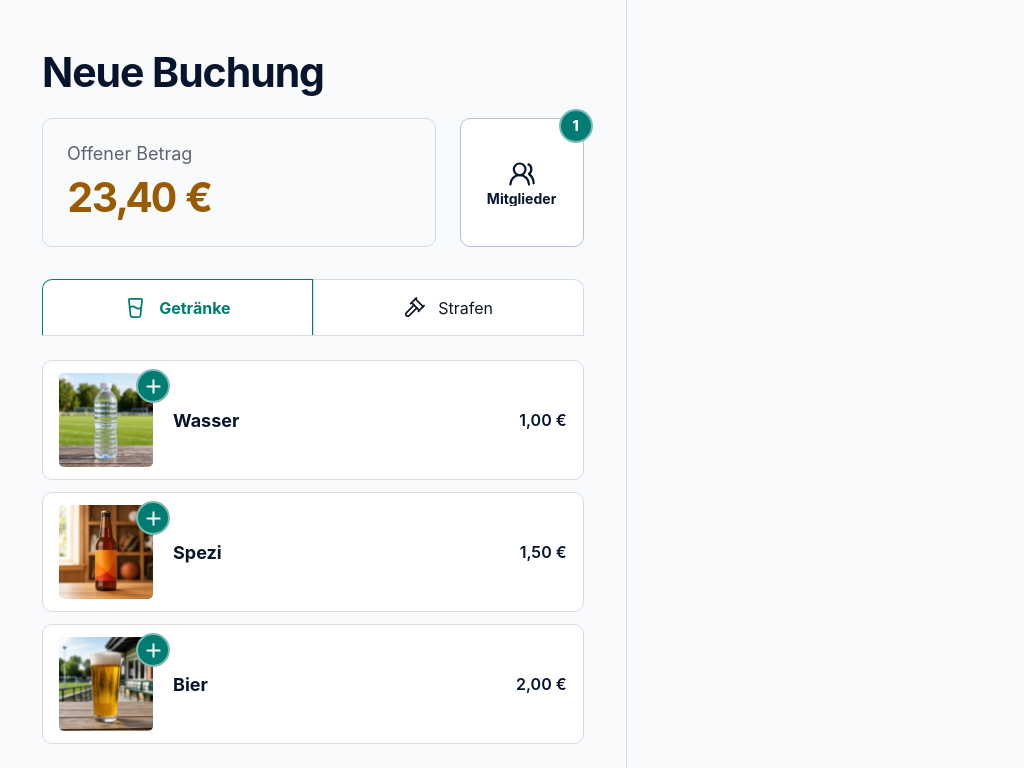
Test: BookingPage multi-product workspace › collapses the expanded compact cart when another category is selected
Click the button "W Wasser 1,00 €".
click(106, 420)  # box [43, 361, 583, 479]
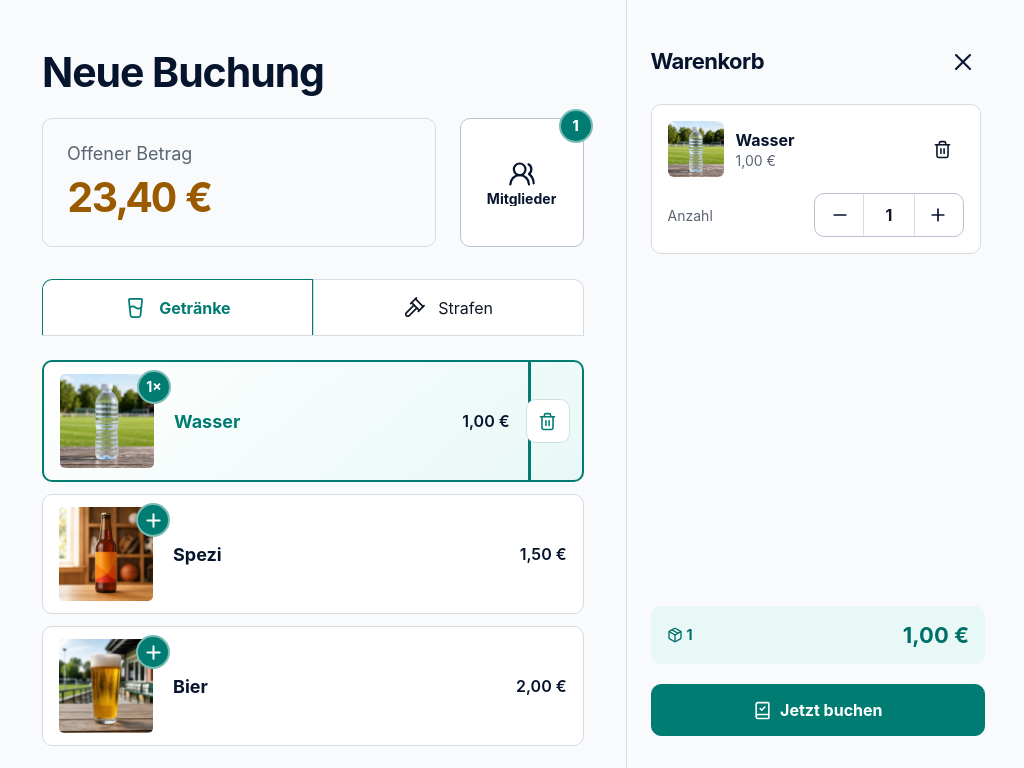
Click the tab "Strafen".
click(448, 307)  # box [313, 279, 584, 335]
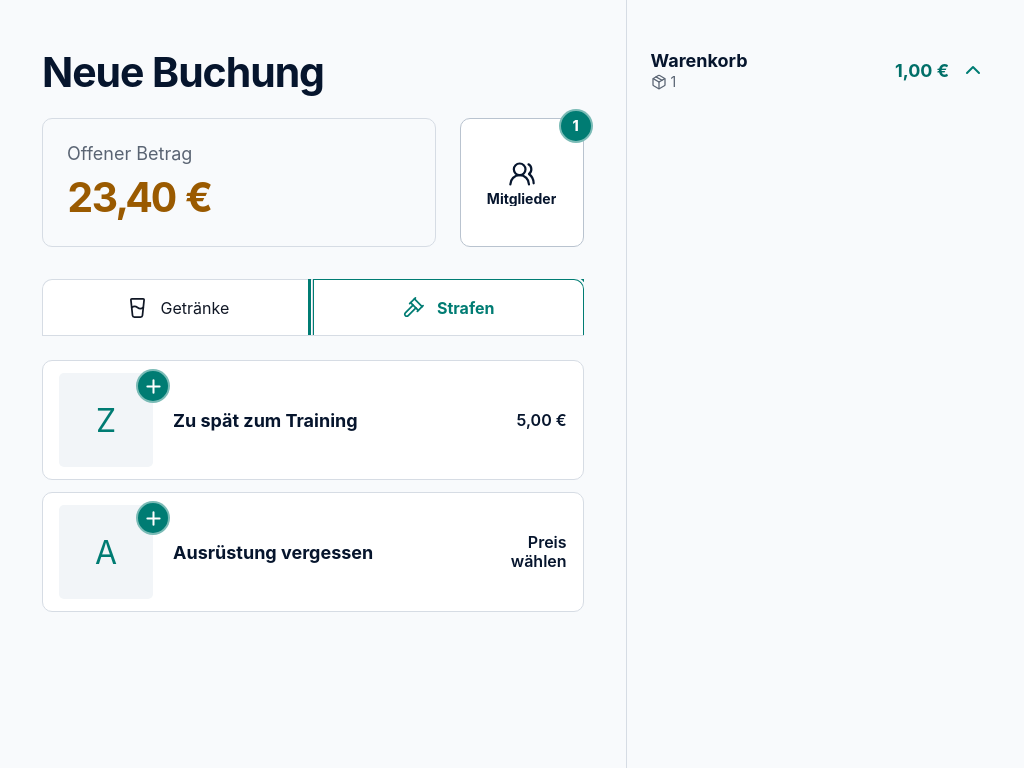
Check: the button "Schließen" is gone
Check: the button with aria-label "Warenkorb öffnen" is shown, box [651, 40, 985, 104]
Check: the button "Z Zu spät zum Training 5,00 €" is shown, box [43, 361, 583, 479]
